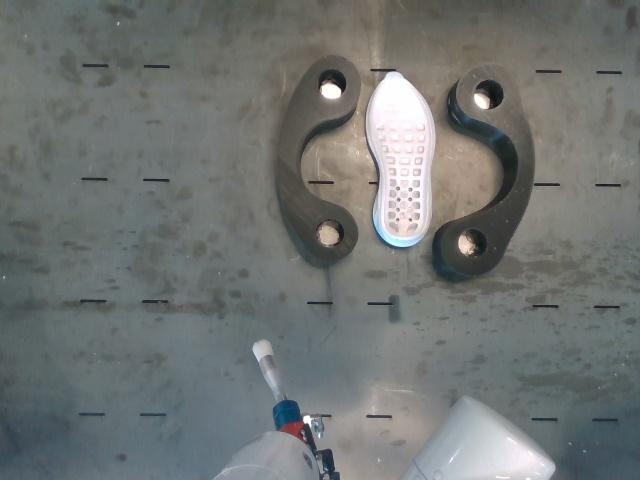shoes: (371, 72, 431, 238)
